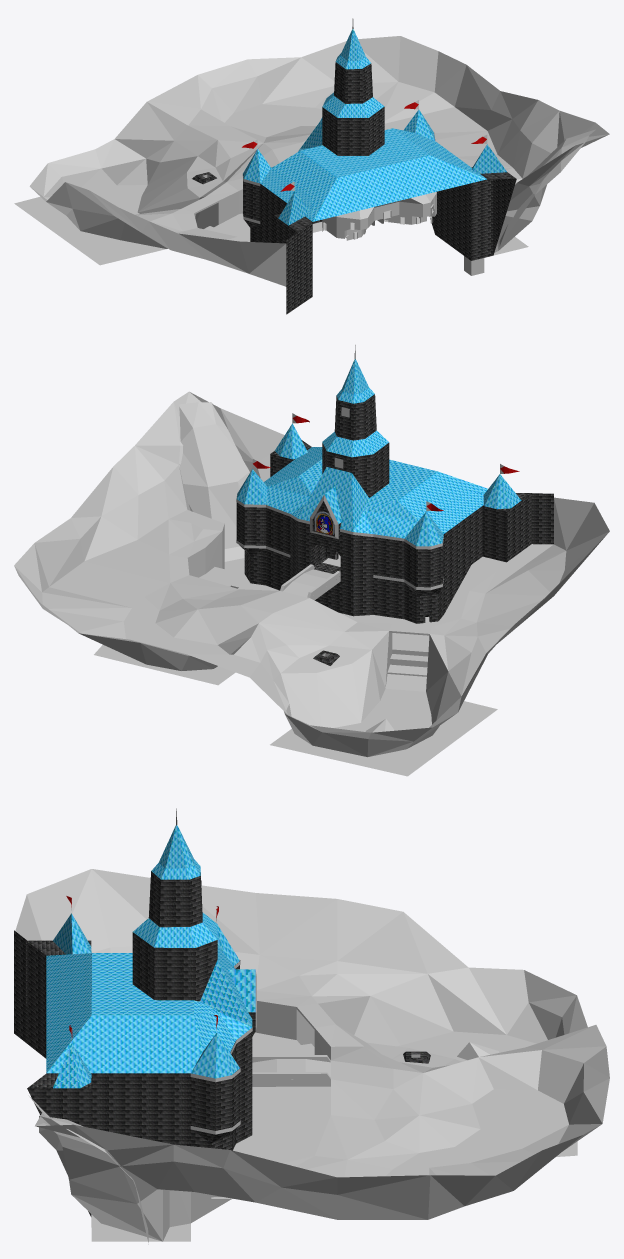
The model's file is CastleOpaqueElements.fbx.
3 views of the same model, one above another, from view 1: azimuth 30°, elevation 25°; view 2: azimuth 150°, elevation 25°; view 3: azimuth 270°, elevation 25° (orthographic). The views are drawn at different scales.
Parts seen in each view (by area): view 1: OpaqueElements; view 2: OpaqueElements; view 3: OpaqueElements.
Boxes of the visible parts, x1,y1,x2,y2 form: OpaqueElements: [14, 18, 609, 314]; OpaqueElements: [14, 345, 609, 776]; OpaqueElements: [14, 808, 609, 1244].
Bounding box in the file's own units: 9830 × 5977 × 8939.
